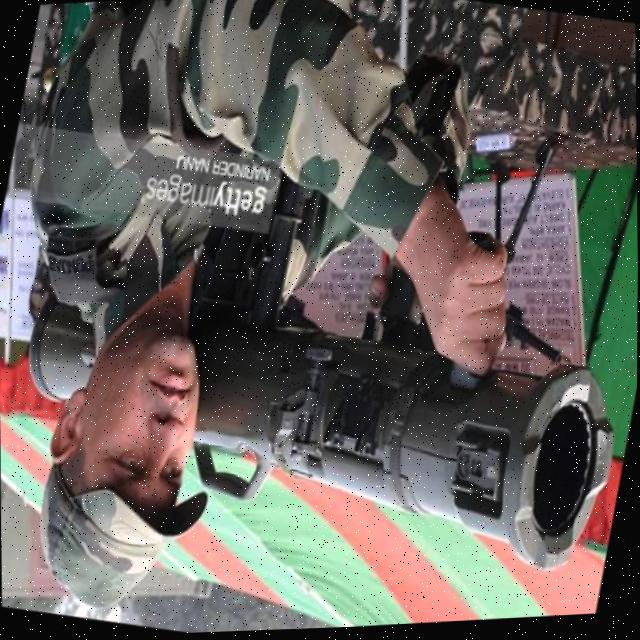rocket: (0, 256, 623, 622)
